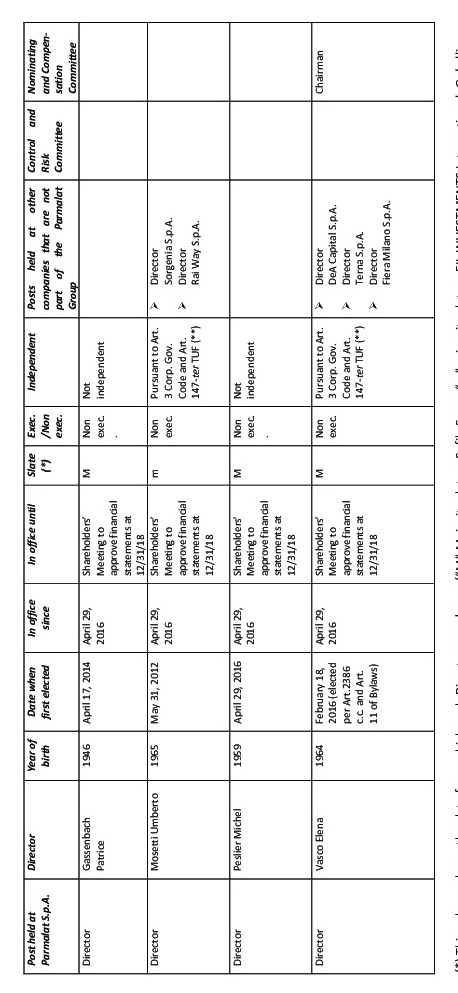table: (0, 0, 458, 993)
